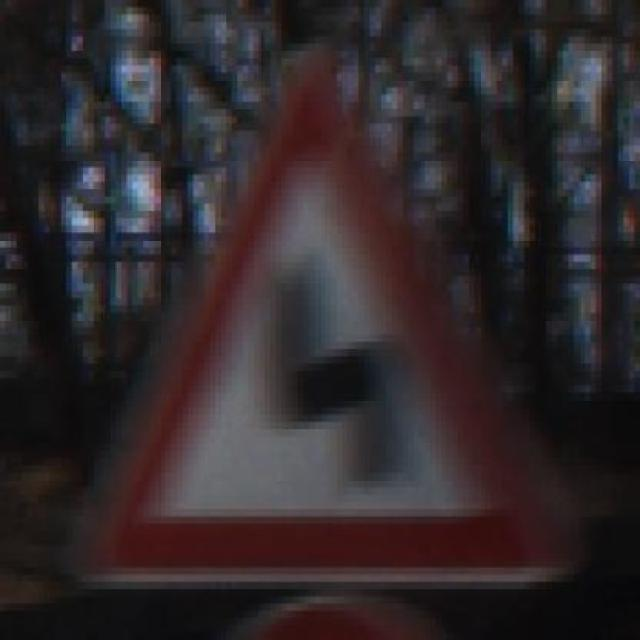Left Zig Zag Traffic: (54, 65, 568, 582)
